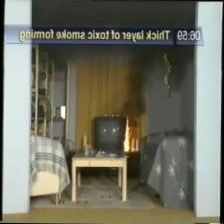fire: (121, 110, 143, 150)
